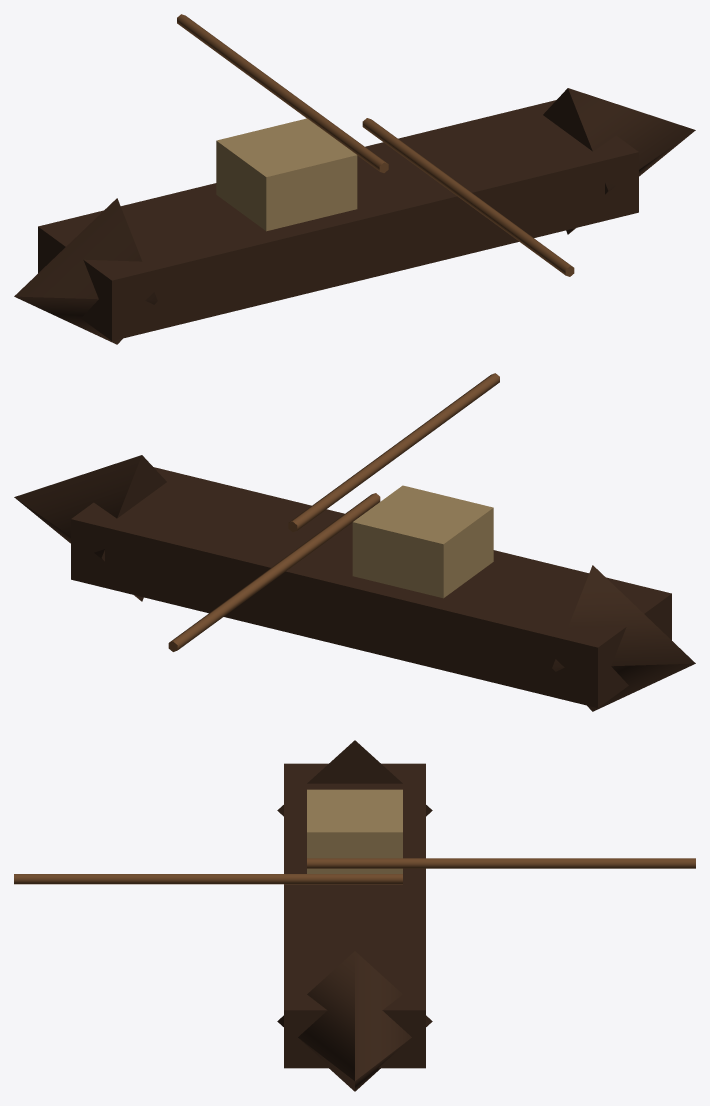
Rendered from vietnamese-sampan.glb.
The picture shows the model from 3 angles, top to bottom: view 1: azimuth 30°, elevation 25°; view 2: azimuth 150°, elevation 25°; view 3: azimuth 270°, elevation 25°; orthographic projection. The views are drawn at different scales.
Visible parts, largest first — view 1: hull, cargoBasket, stern, bow, oarLeft, oarRight; view 2: hull, cargoBasket, stern, bow, oarLeft, oarRight; view 3: hull, bow, cargoBasket, oarLeft, oarRight, stern.
Part boxes in pixels (box(x1,y1,x2,y2)): hull: box(38, 100, 638, 340); cargoBasket: box(216, 118, 357, 231); stern: box(14, 198, 157, 344); bow: box(543, 88, 695, 234); oarLeft: box(362, 118, 574, 276); oarRight: box(177, 14, 388, 172); hull: box(71, 467, 671, 707); cargoBasket: box(352, 485, 493, 598); stern: box(552, 565, 695, 711); bow: box(14, 455, 166, 601); oarLeft: box(288, 373, 499, 531); oarRight: box(168, 493, 380, 651); hull: box(284, 763, 425, 1068); bow: box(277, 951, 432, 1091); cargoBasket: box(307, 789, 402, 873); oarLeft: box(14, 874, 402, 884); oarRight: box(307, 858, 695, 868); stern: box(277, 740, 432, 816).
Bounding box in the file's own units: 3.3 × 0.72 × 2.98.
